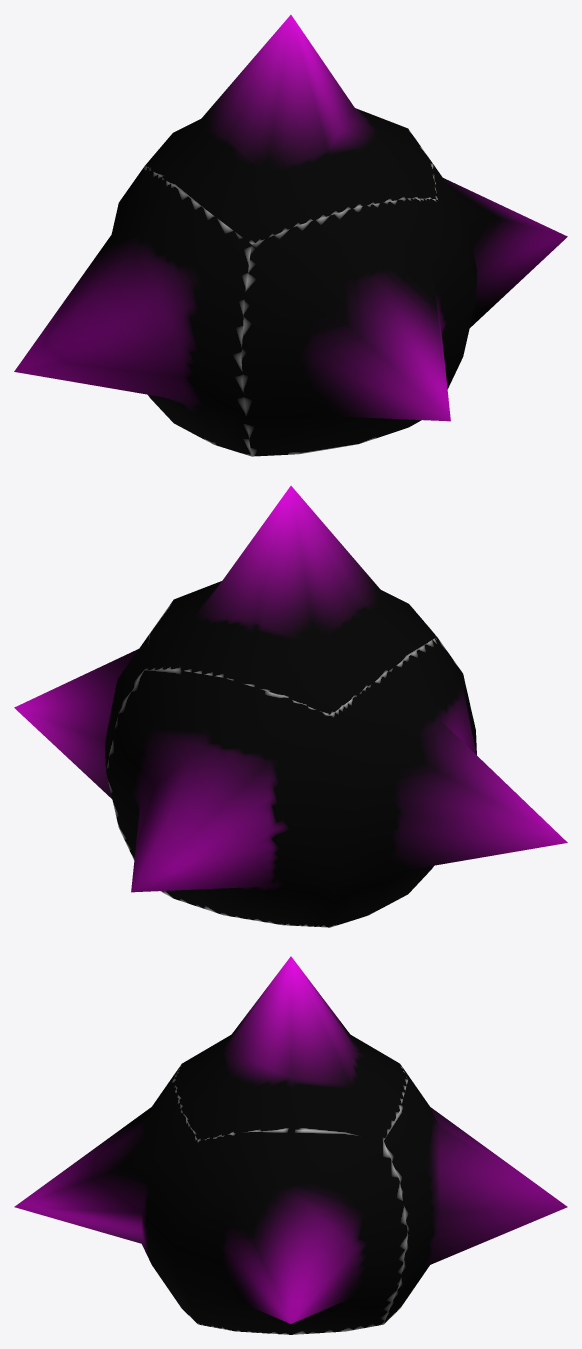
File: bolaPinchos.obj
3 renders of one model, top to bottom at view 1: azimuth 30°, elevation 25°; view 2: azimuth 150°, elevation 25°; view 3: azimuth 270°, elevation 25°, orthographic. The views are drawn at different scales.
Parts seen in each view (by area): view 1: Cube1; view 2: Cube1; view 3: Cube1.
Part boxes in pixels (x1,y1,x2,y2): Cube1: (14, 15, 567, 456); Cube1: (14, 486, 567, 927); Cube1: (14, 956, 567, 1334).
Bounding box in the file's own units: 3.04 × 1.99 × 3.04.
1 material, 1 textured.
